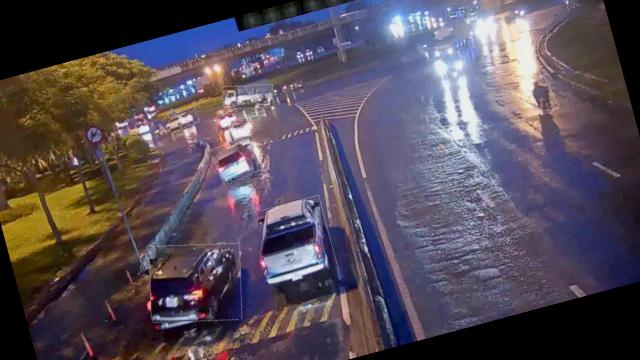Bike: (527, 76, 558, 115)
Car: (137, 228, 253, 336), (244, 195, 338, 290), (210, 134, 262, 184), (160, 108, 200, 133), (222, 116, 252, 142)
Truck: (220, 76, 276, 116)
